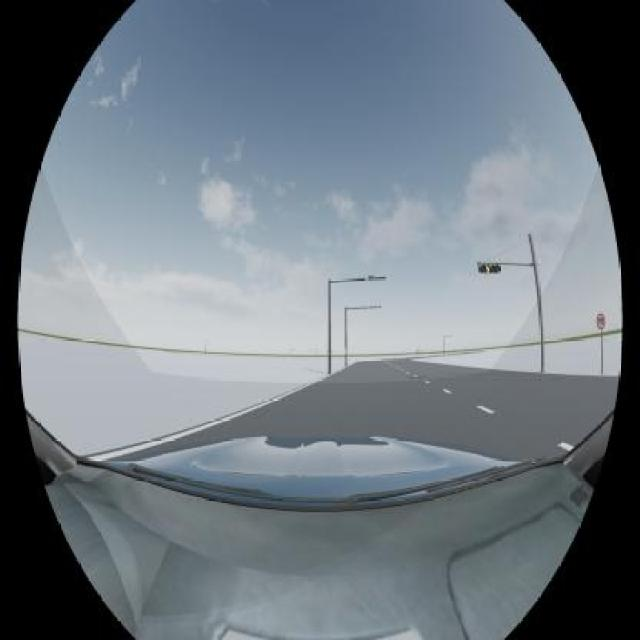forb_speed_over_100: (596, 312, 607, 331)
